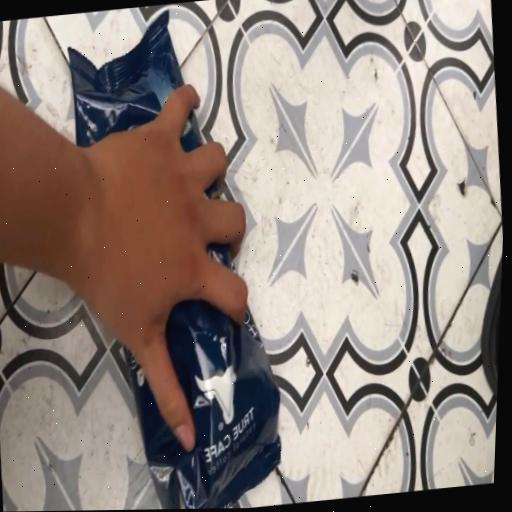cafe_hat: (124, 302, 279, 509), (68, 12, 182, 147), (180, 113, 202, 151), (207, 245, 231, 267), (204, 185, 218, 199)
